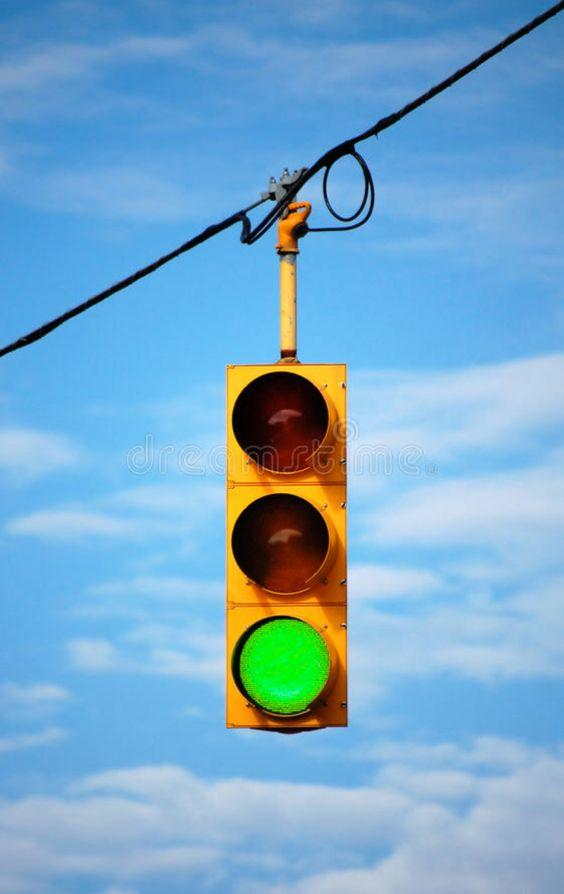Traffic light green: (202, 342, 360, 735)
